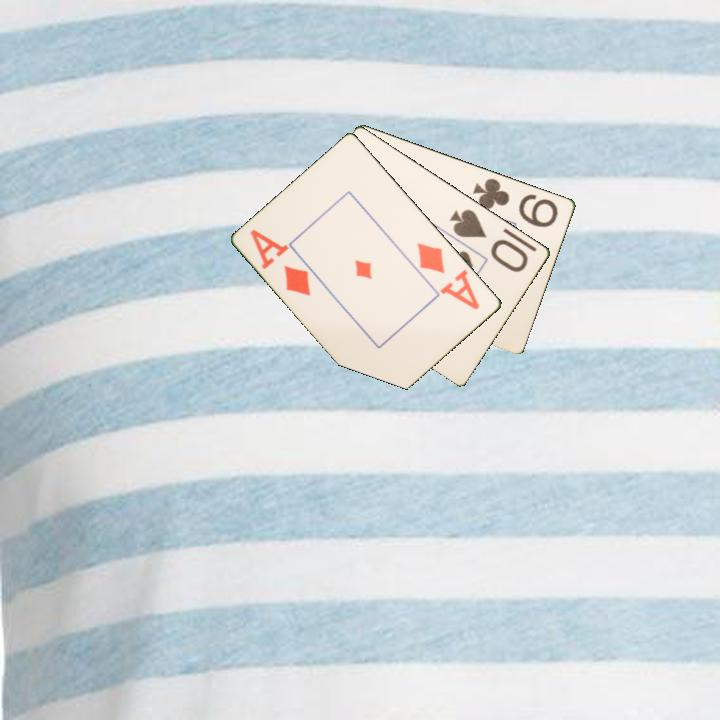10s: (446, 205, 531, 275)
9c: (469, 174, 561, 230)
Ad: (414, 239, 483, 313), (247, 225, 314, 299)
